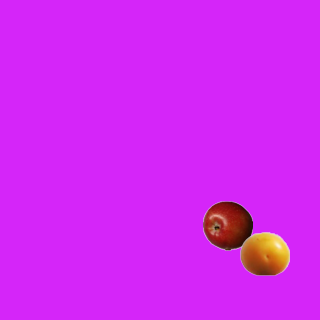Apple Braeburn: (202, 200, 252, 250)
Cherry Wax Yellow: (239, 228, 289, 278)
